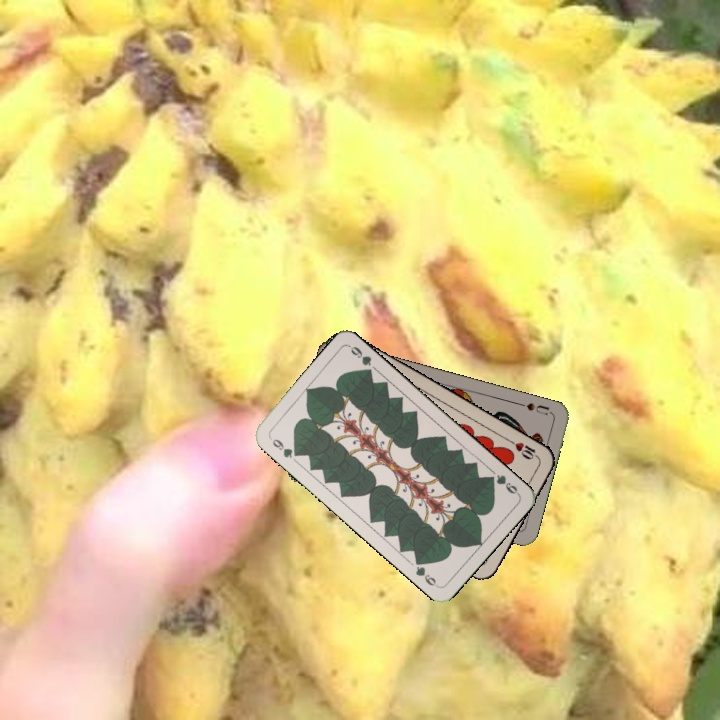G9: (266, 434, 303, 461), (483, 471, 521, 497)
H10: (505, 436, 542, 462)
SU: (514, 399, 554, 418)
